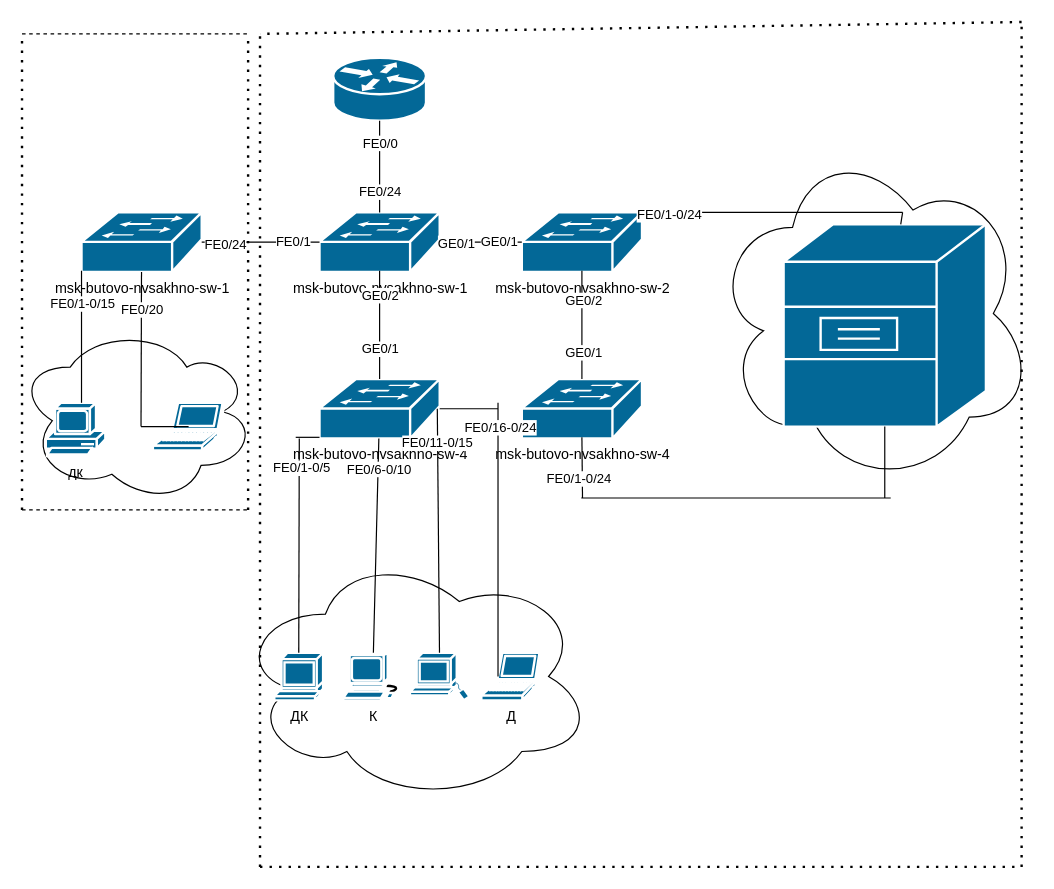
This 1054x889 diagram has some shape labels left out. The shapes that lost their labels are listed below. From the top down, each one's box as (x1, y1, x2, y2) in pixels, then its label:
(331, 56, 427, 121): msk-butovo-nvsakhno-gw-1
(782, 223, 987, 427): Серверная ферма
(151, 401, 225, 451): Д Пользователя
(408, 651, 470, 701): А Пользователя
